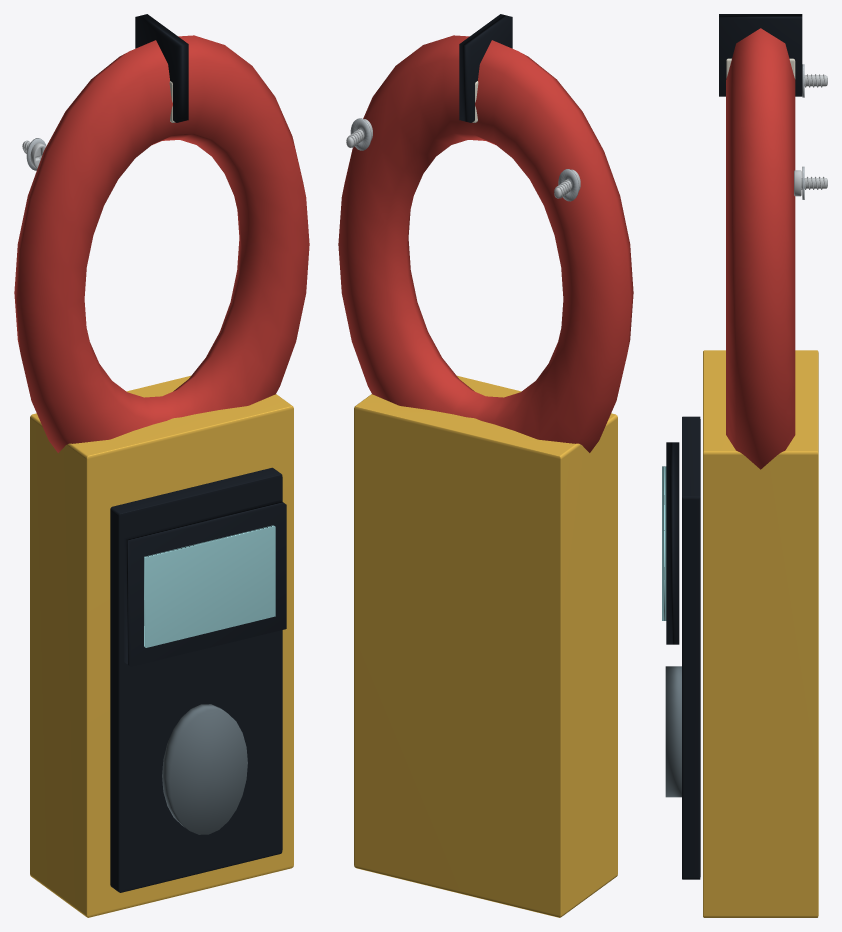
Rendered from clamp_default.glb.
3 views of the same model, side by side, from view 1: azimuth 30°, elevation 25°; view 2: azimuth 150°, elevation 25°; view 3: azimuth 270°, elevation 25° (orthographic).
Parts seen in each view (by area): view 1: part:body, part:sensing, part:display, part:actuator; view 2: part:body, part:sensing; view 3: part:body, part:sensing, part:display, part:actuator, part:mounting.001 · Detail zinc plated fixing.
Boxes of the visible parts, x1,y1,x2,y2 form: part:body: (30, 375, 293, 917); part:sensing: (14, 14, 309, 452); part:display: (124, 500, 286, 666); part:actuator: (162, 704, 247, 834); part:body: (354, 375, 617, 917); part:sensing: (338, 14, 633, 452); part:body: (682, 350, 818, 917); part:sensing: (719, 14, 802, 469); part:display: (662, 442, 679, 644); part:actuator: (665, 666, 681, 797); part:mounting.001 · Detail zinc plated fixing: (794, 170, 827, 196).
Bounding box in the file's own units: 0.5154 × 1.43 × 0.2527.
